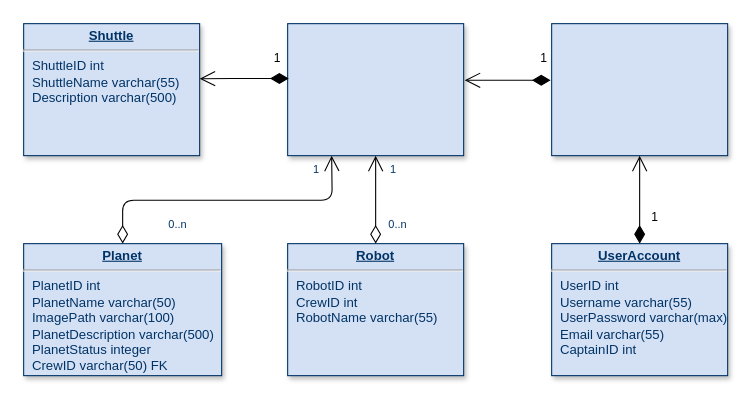
Some shapes in this 754 by 403 pixel diagram are drawn without their labels. Here are the shapes that lost their labels. From the top down, the centre of each, then its label:
the point at 376,90: Crew CrewID int ShuttleID int FK CrewName varchar(55)
the point at 640,90: Captain CaptainID int CrewID FK FirstName varchar(55) LastName varchar(55)
